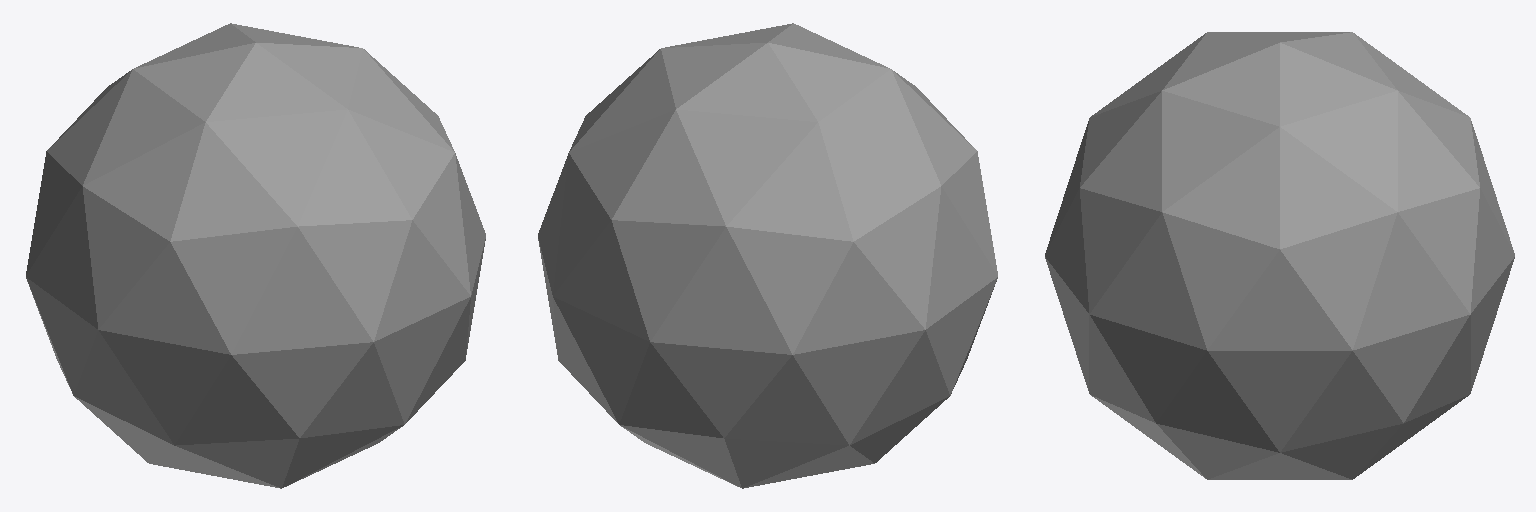
Rendered from SphereSnake.obj.
3 renders of one model, left to right at view 1: azimuth 30°, elevation 25°; view 2: azimuth 150°, elevation 25°; view 3: azimuth 270°, elevation 25°, orthographic.
Parts seen in each view (by area): view 1: Icosphere.001; view 2: Icosphere.001; view 3: Icosphere.001.
Part boxes in pixels (left/top/right/bottom): Icosphere.001: left=26, top=23, right=485, bottom=488; Icosphere.001: left=538, top=23, right=997, bottom=488; Icosphere.001: left=1045, top=32, right=1514, bottom=479.
Size of the model in its own units: 0.0695 by 0.073 by 0.073.